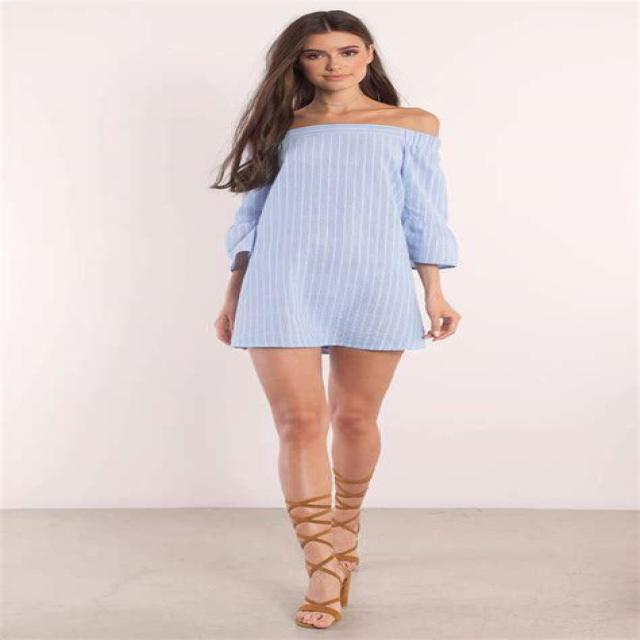dress: (224, 125, 461, 357)
